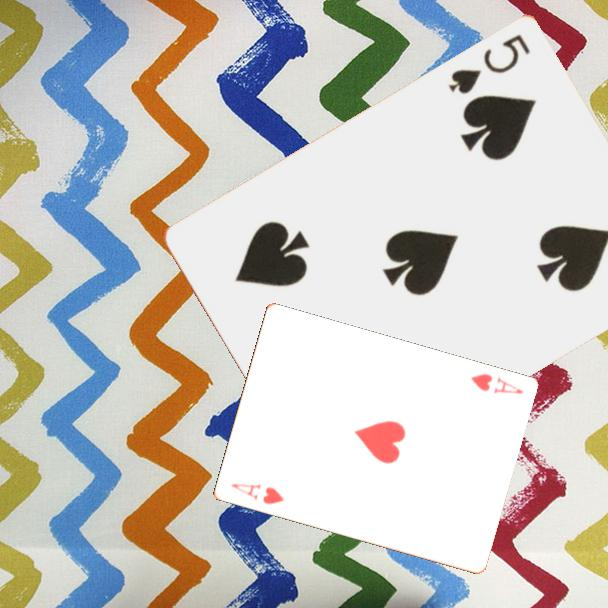h01: (227, 480, 287, 508), (467, 370, 526, 397)
s05: (445, 30, 533, 97)
